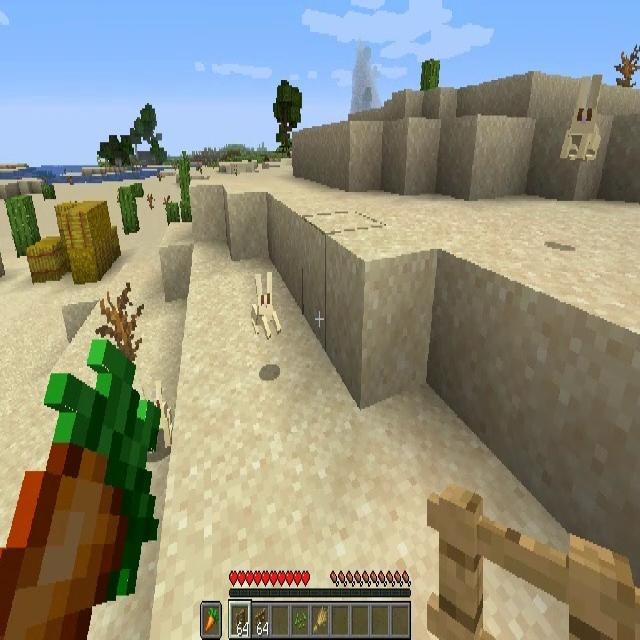rabbit: (560, 79, 600, 163), (250, 272, 282, 344), (143, 380, 173, 456)
